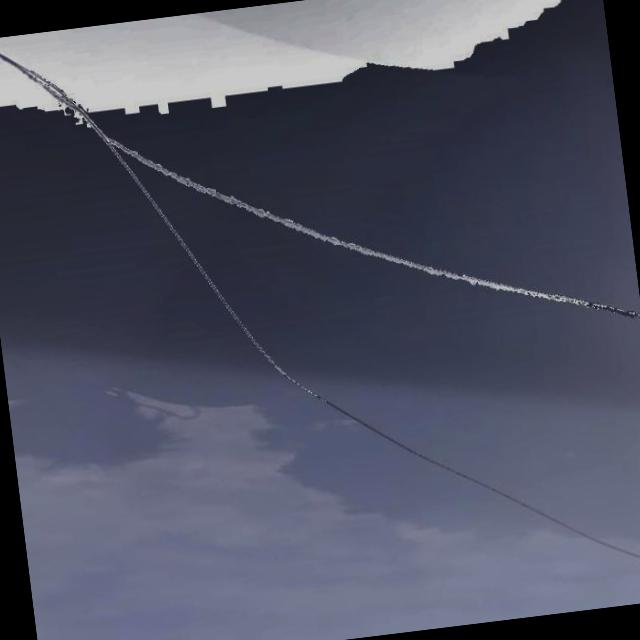crack: (141, 78, 618, 388), (220, 217, 506, 629)
